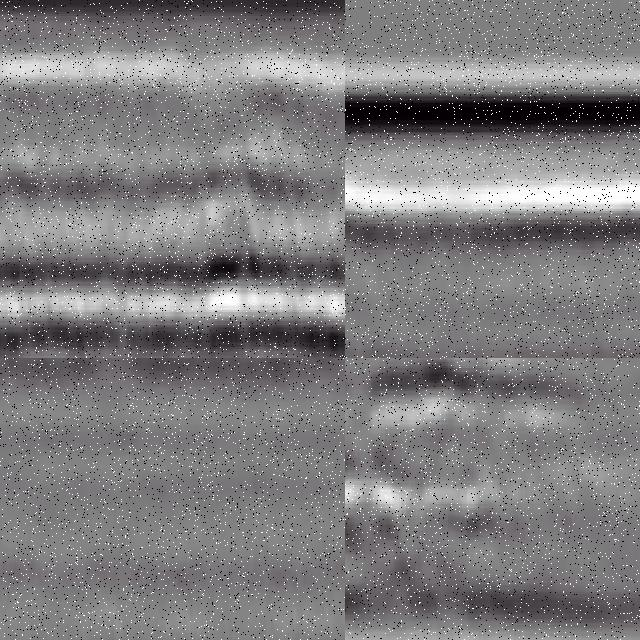loose: (346, 359, 518, 640)
